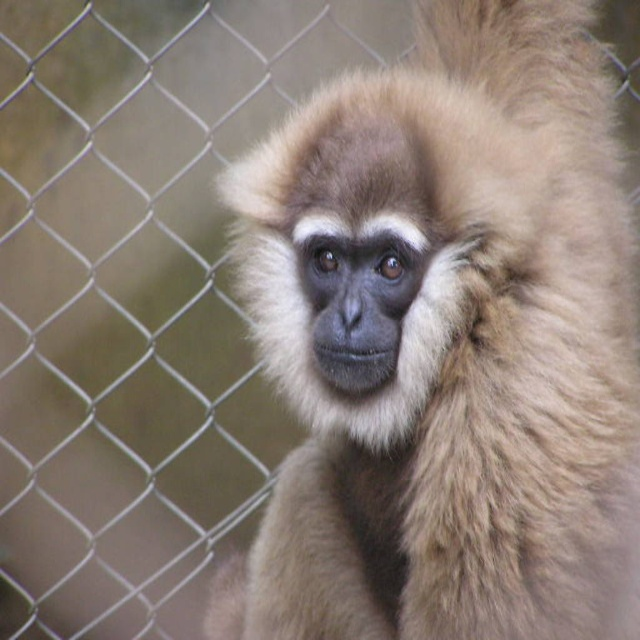Monkey: (203, 0, 640, 640)
